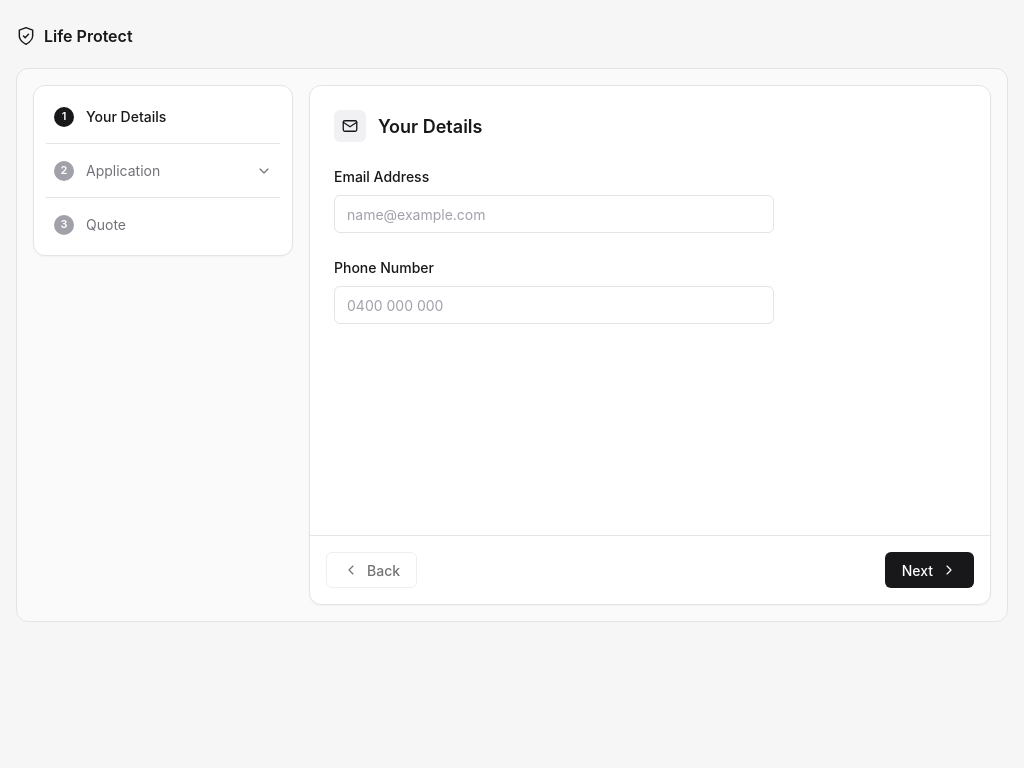
it: insurance application journey › lets the customer go back without losing answers
The image size is (1024, 768).
Expected: the heading "Your Details" is shown, [378,112,482,140]
In the field labelled "Email Address": [554, 214] box [334,195,774,233], type "jane@example.com"
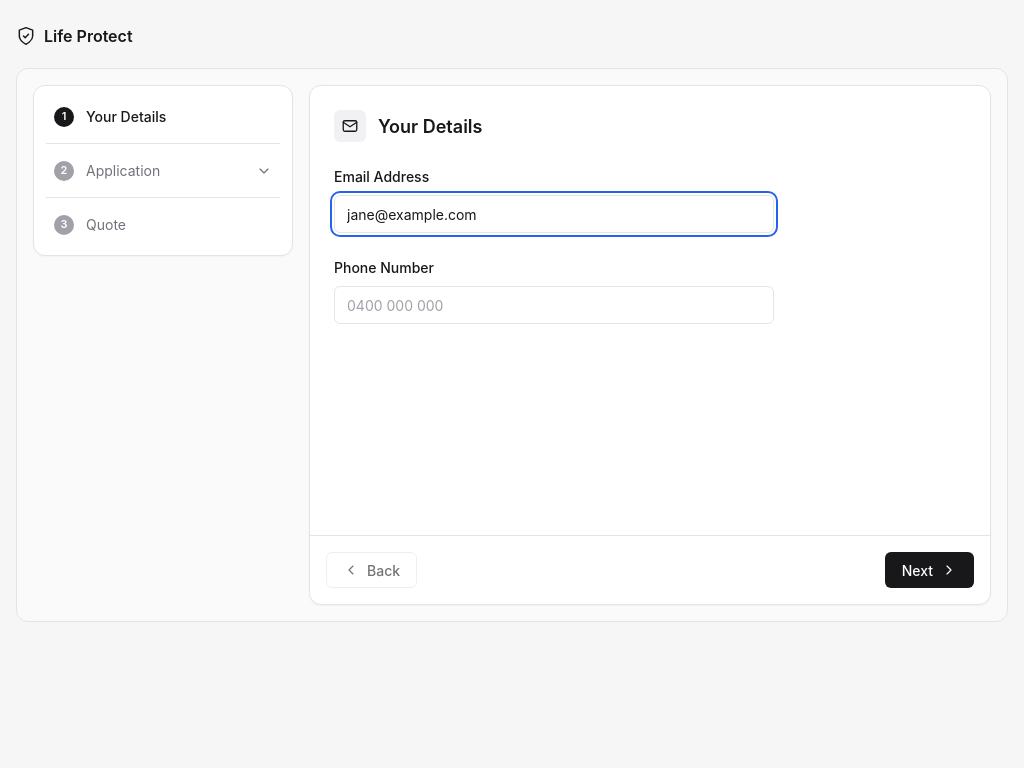
In the field labelled "Phone Number": [554, 305] box [334,286,774,324], type "0400 123 456"
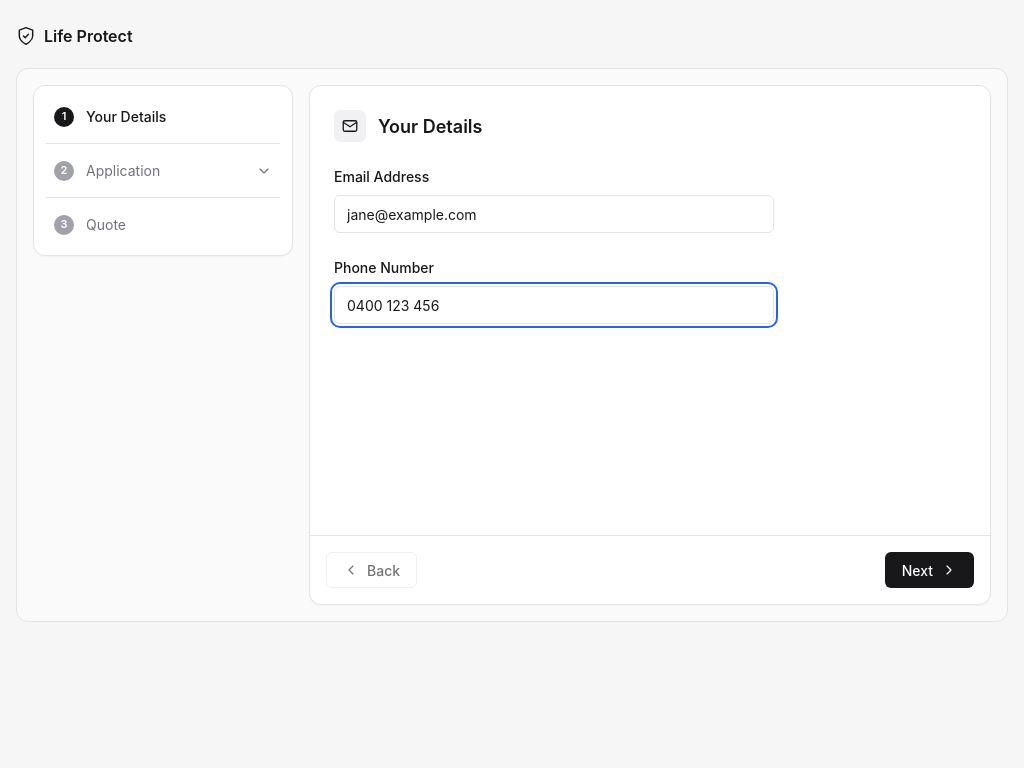
Click the button "Next": [929, 570] box [885,552,974,588]
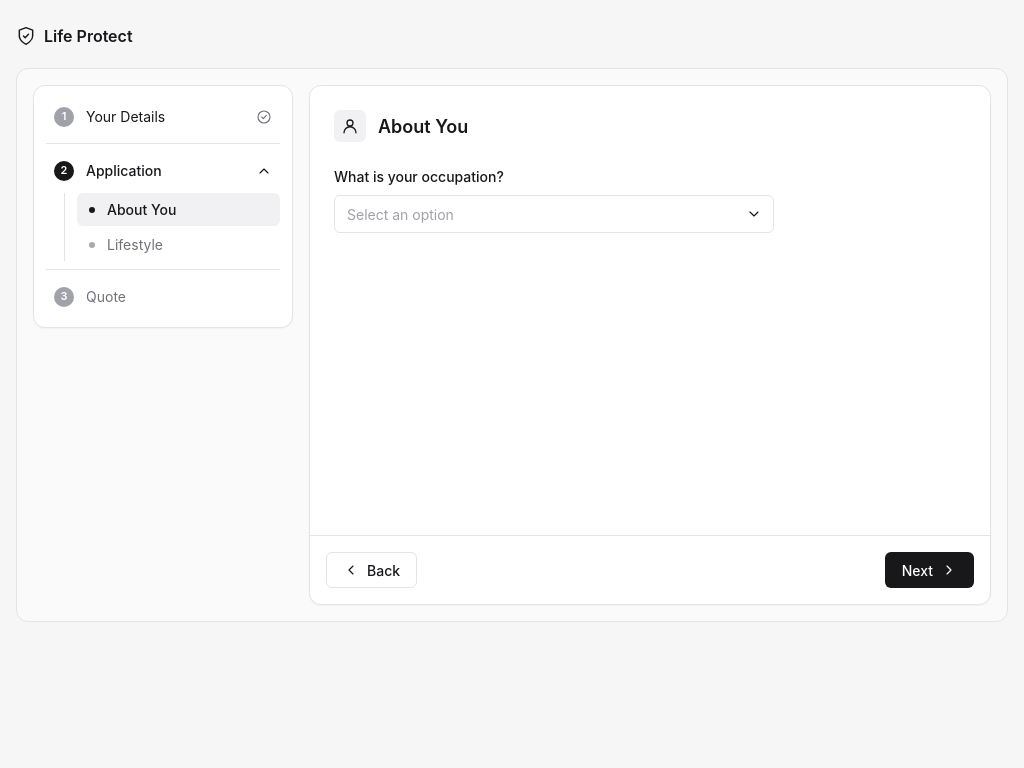
Expected: the heading "About You" is shown, [378,112,468,140]
Click the button "Back": [372, 570] box [326,552,417,588]
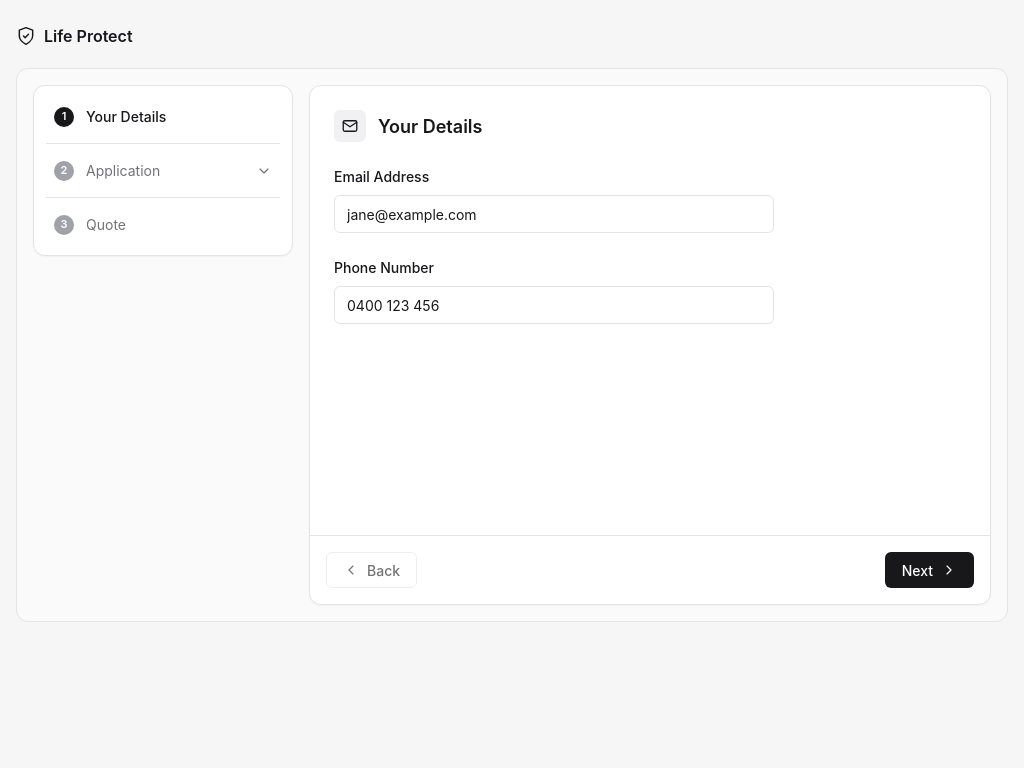
Expected: the heading "Your Details" is shown, [378,112,482,140]
Expected: the field labelled "Email Address" holds "jane@example.com", [334,195,774,233]
